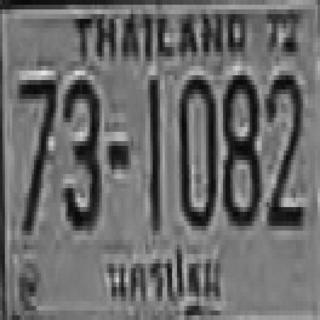N00: (177, 71, 216, 226)
N01: (147, 75, 159, 231), (148, 75, 160, 231)
N02: (266, 68, 302, 224)
N03: (61, 75, 99, 226)
N07: (17, 73, 56, 228)
N08: (221, 71, 259, 221)
P28: (101, 247, 225, 316)
